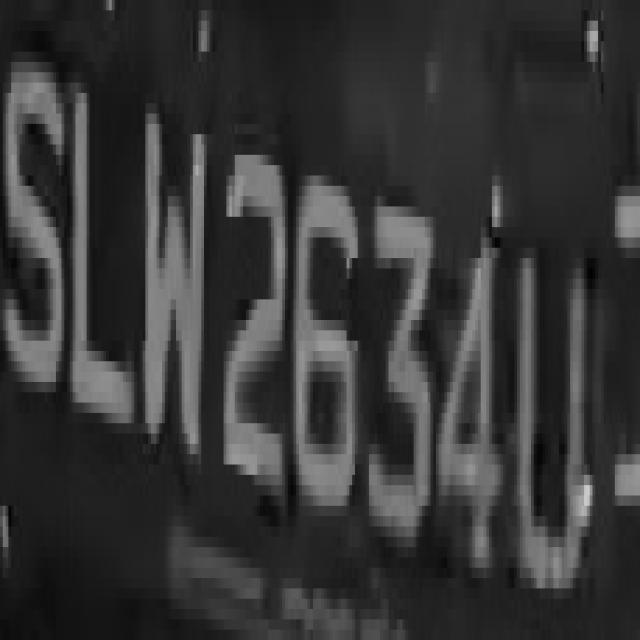2: (220, 93, 290, 537)
3: (360, 175, 439, 568)
4: (422, 165, 509, 568)
6: (285, 155, 375, 537)
L: (61, 62, 137, 464)
S: (0, 21, 67, 413)
U: (509, 176, 595, 598)
W: (137, 103, 212, 496)
